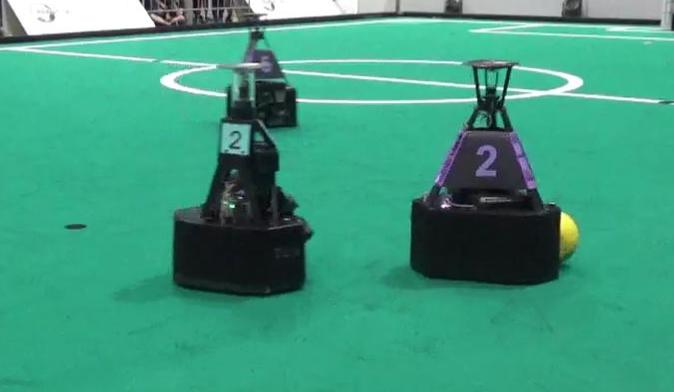robot: (409, 60, 566, 289), (174, 62, 311, 295), (221, 10, 304, 130)
